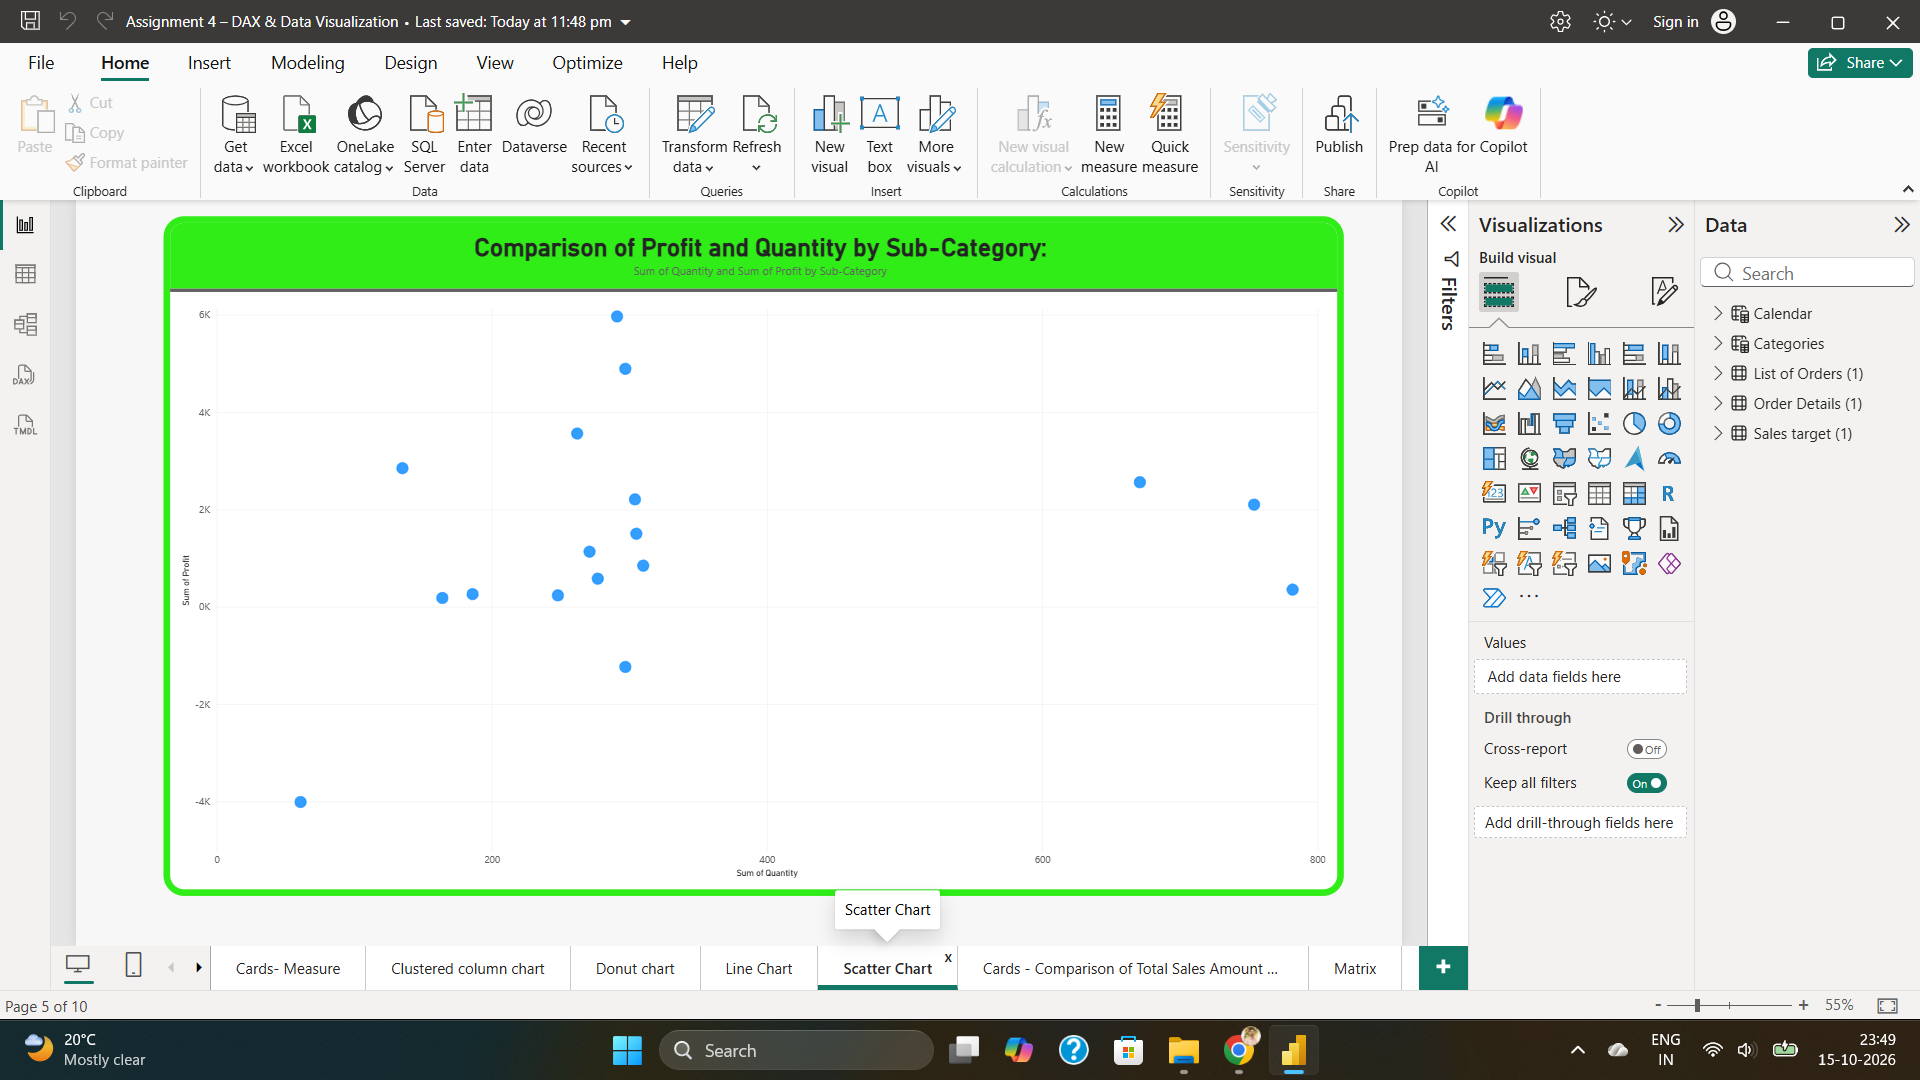

What the dashboard file says about the page in this screenshot:
{"tool":"powerbi","page":{"name":"Scatter Chart","canvas":[1920,1080],"ordinal":4},"visuals":[{"type":"scatterChart","title":"Comparison of Profit and Quantity by Sub-Category:","fields":{"Category":["Order Details (1).Sub-Category"],"X":["Sum(Order Details (1).Quantity)"],"Y":["Sum(Order Details (1).Profit)"]},"box":[126.8,23.2,1708.9,983.9],"z":0}]}

Visuals, with their boxes on the page's 1920x1080 design canvas (x1, y1, x2, y2). These are canvas units, not pixel positions in the 1920x1080 screenshot, which may show the page scaled, cropped or inside an application window:
"Comparison of Profit and Quantity by Sub-Category:" scatterChart: 127/23/1836/1007
